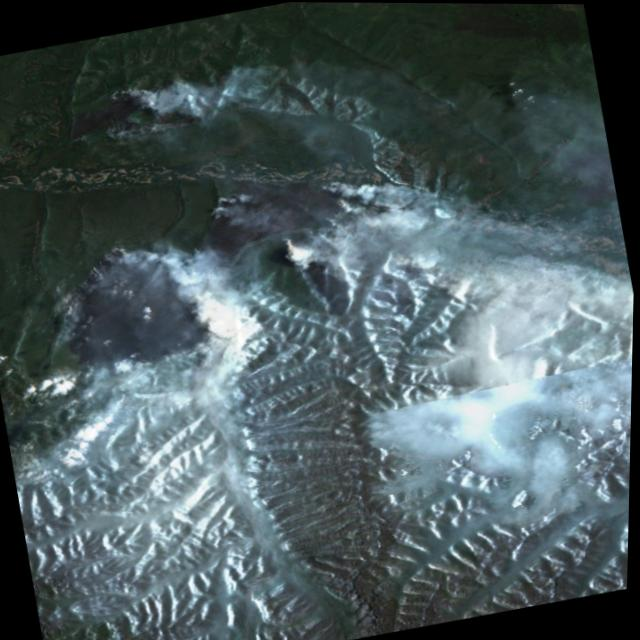fire: (24, 133, 474, 406), (97, 57, 186, 148), (112, 427, 188, 490)
